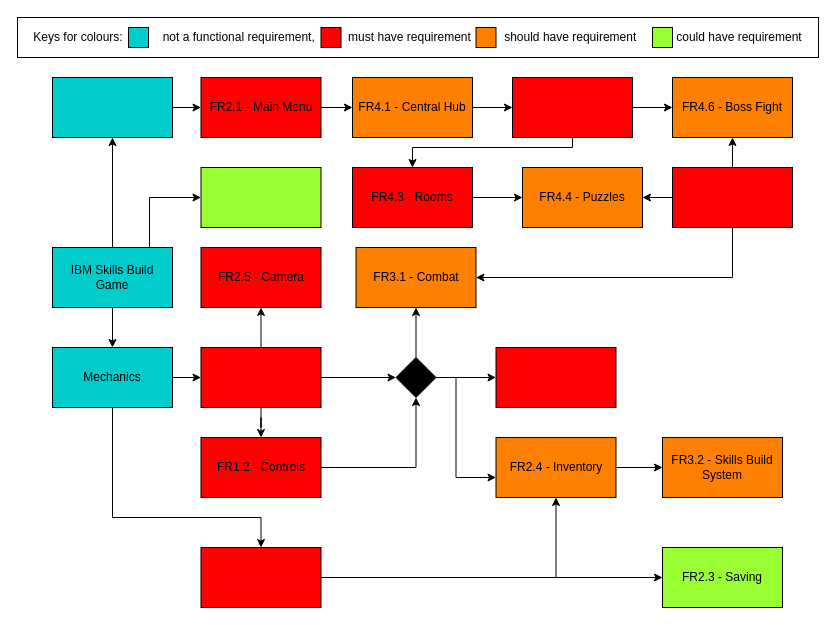
Image size: 836x625. Some labels were removed from this diagram. The shapes that lost their labels are listed below. From the top down, each one's centre as x and y in pixels, then its label:
[112,107]: Overview
[572,107]: FR4.2 - Worlds
[260,197]: FR5.1 - Audio
[732,197]: FR4.5 - Multiple Choice Questions
[260,377]: FR1.1 - Player Charcter
[555,377]: FR1.3 - Player Character Movement
[260,577]: FR2.2 - Pause Menu
